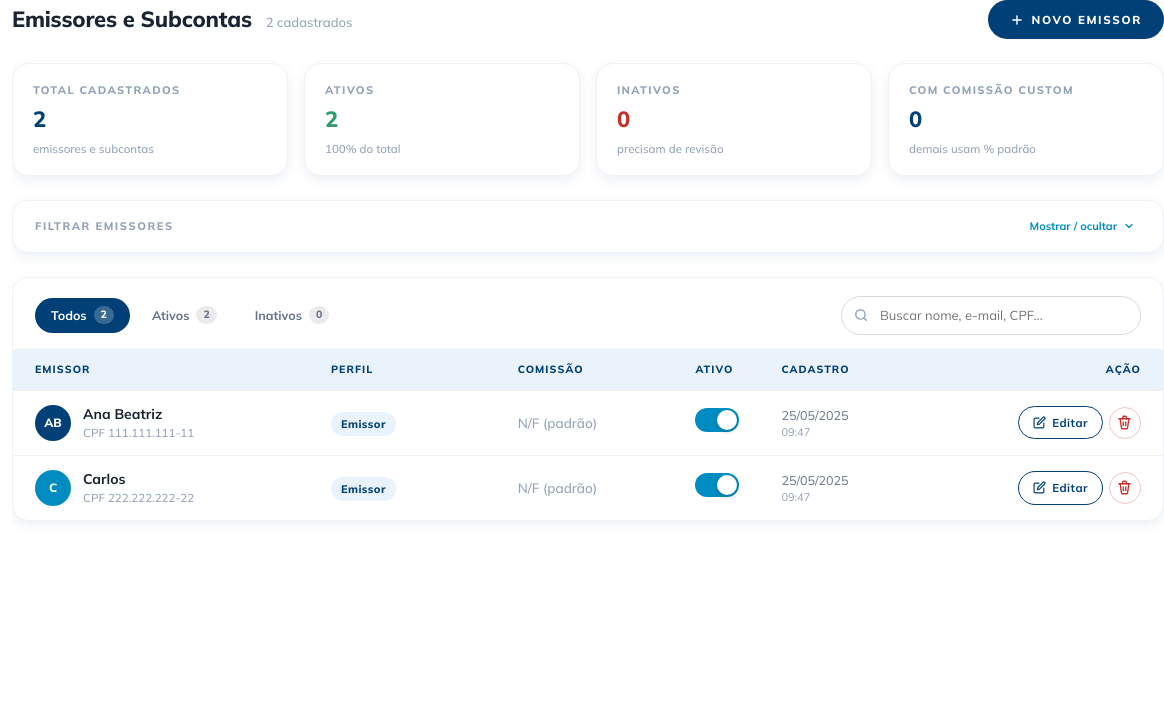
Test: EmissoresListSection › quick search filtra por nome, email e CPF
Type "ana@email.com" into the search field with placeholder "Buscar nome, e-mail, CPF..." at point(991, 315), box [841,296,1141,335]
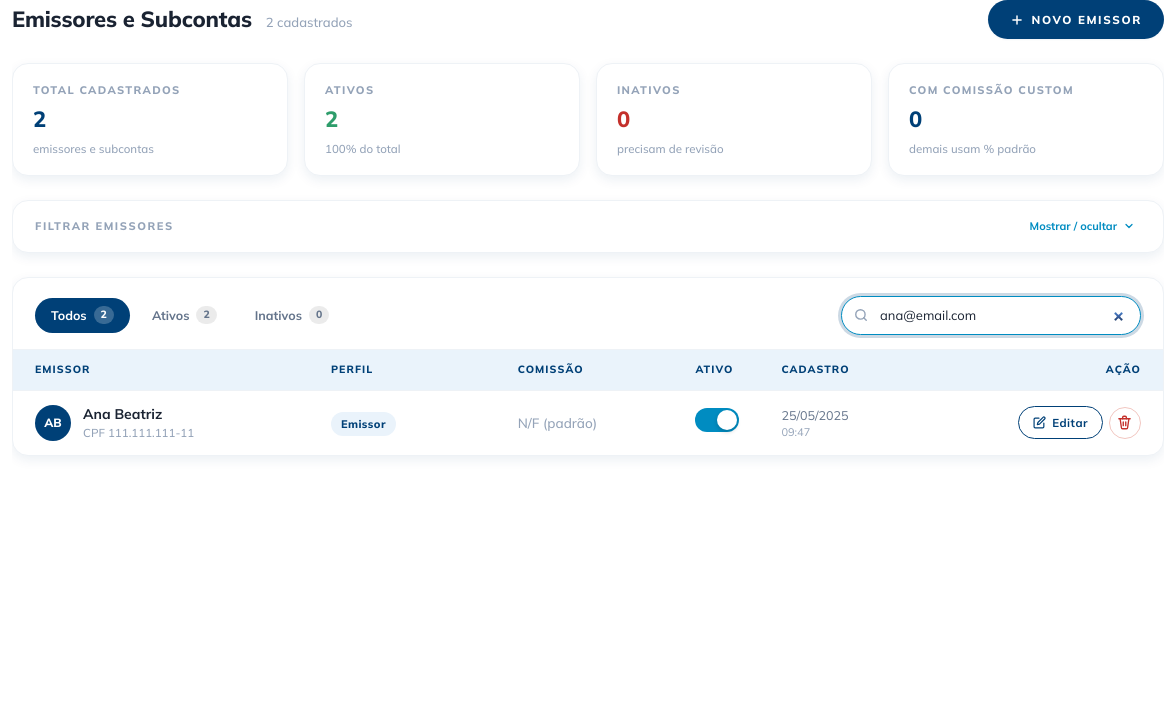
Expected: the text "Ana Beatriz" is shown, [83,405,162,423]
Result: the text "Carlos" is gone
